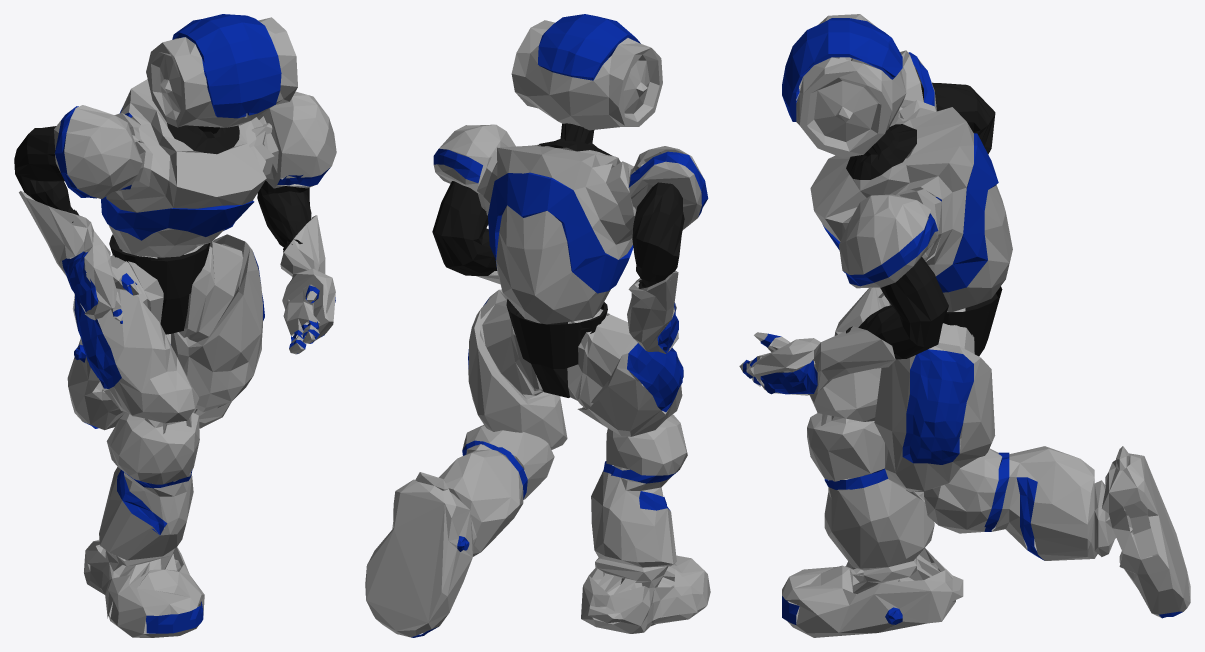
Rendered from run21.obj.
3 renders of one model, left to right at view 1: azimuth 30°, elevation 25°; view 2: azimuth 150°, elevation 25°; view 3: azimuth 270°, elevation 25°, orthographic. The views are drawn at different scales.
Visible parts, largest first — view 1: Robot2.001_Robot2Mesh.000, Robot2_Robot2Mesh.004, Robot2.002_Robot2Mesh.001; view 2: Robot2.001_Robot2Mesh.000, Robot2_Robot2Mesh.004, Robot2.002_Robot2Mesh.001; view 3: Robot2.001_Robot2Mesh.000, Robot2_Robot2Mesh.004, Robot2.002_Robot2Mesh.001.
Boxes of the visible parts, x1=… form: Robot2.001_Robot2Mesh.000: x1=19, y1=17, x2=336, y2=637; Robot2_Robot2Mesh.004: x1=55, y1=14, x2=335, y2=633; Robot2.002_Robot2Mesh.001: x1=14, y1=123, x2=311, y2=334; Robot2.001_Robot2Mesh.000: x1=365, y1=20, x2=710, y2=637; Robot2_Robot2Mesh.004: x1=411, y1=14, x2=708, y2=637; Robot2.002_Robot2Mesh.001: x1=432, y1=123, x2=684, y2=397; Robot2.001_Robot2Mesh.000: x1=739, y1=14, x2=1190, y2=637; Robot2_Robot2Mesh.004: x1=743, y1=18, x2=1182, y2=624; Robot2.002_Robot2Mesh.001: x1=846, y1=82, x2=1002, y2=359.
Bounding box in the file's own units: 0.98 × 1.96 × 1.27.
